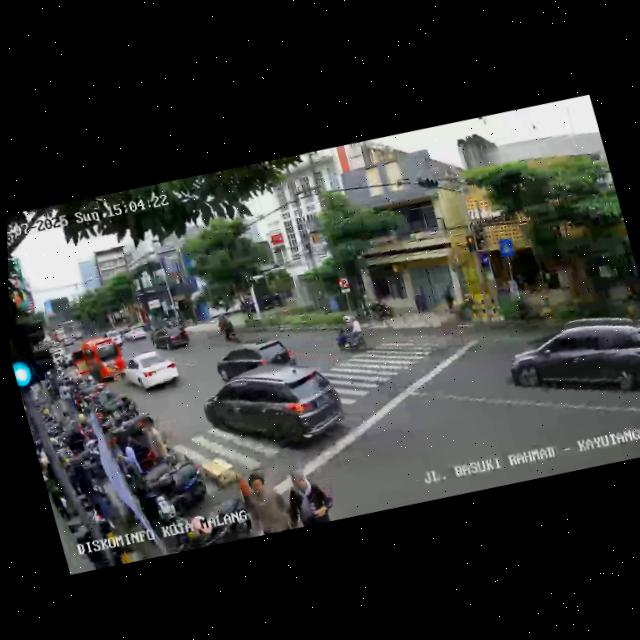car: (194, 348, 360, 479), (497, 298, 640, 426), (211, 329, 299, 390), (63, 330, 128, 391), (119, 344, 185, 401), (148, 322, 184, 354), (121, 320, 151, 345)
motorcycle: (329, 313, 369, 356), (217, 312, 240, 346)
person: (274, 460, 337, 531), (235, 465, 295, 539)
